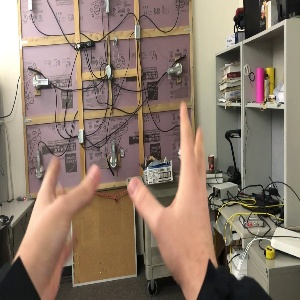hand: (126, 100, 217, 286), (24, 156, 99, 290)
